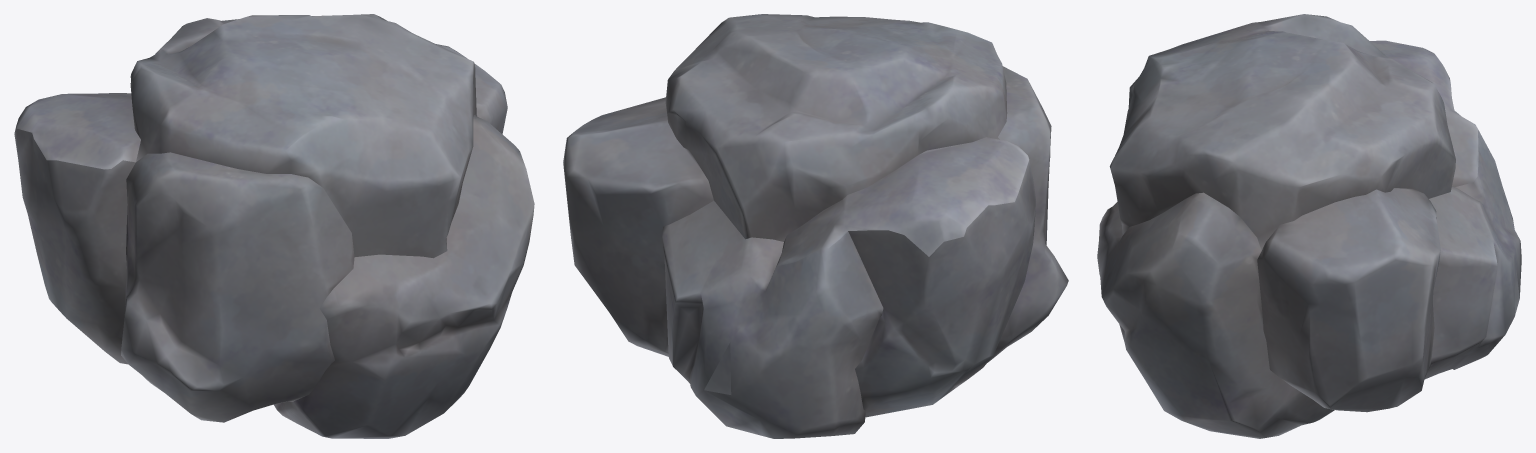
The model's file is cliff2.glb.
3 renders of one model, left to right at view 1: azimuth 30°, elevation 25°; view 2: azimuth 150°, elevation 25°; view 3: azimuth 270°, elevation 25°, orthographic. The views are drawn at different scales.
Visible parts, largest first — view 1: SM_RockPack_Cliff_07_D_M_RockPack_Cliff_07_0; view 2: SM_RockPack_Cliff_07_D_M_RockPack_Cliff_07_0; view 3: SM_RockPack_Cliff_07_D_M_RockPack_Cliff_07_0.
Boxes of the visible parts, left/top/right/bottom form: SM_RockPack_Cliff_07_D_M_RockPack_Cliff_07_0: left=14, top=14, right=534, bottom=438; SM_RockPack_Cliff_07_D_M_RockPack_Cliff_07_0: left=563, top=14, right=1068, bottom=438; SM_RockPack_Cliff_07_D_M_RockPack_Cliff_07_0: left=1097, top=14, right=1521, bottom=438.
Size of the model in its own units: 8.92 by 6.75 by 7.93.
1 material, 1 textured.
